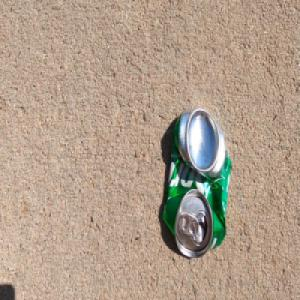SodaCan: (161, 106, 232, 259)
